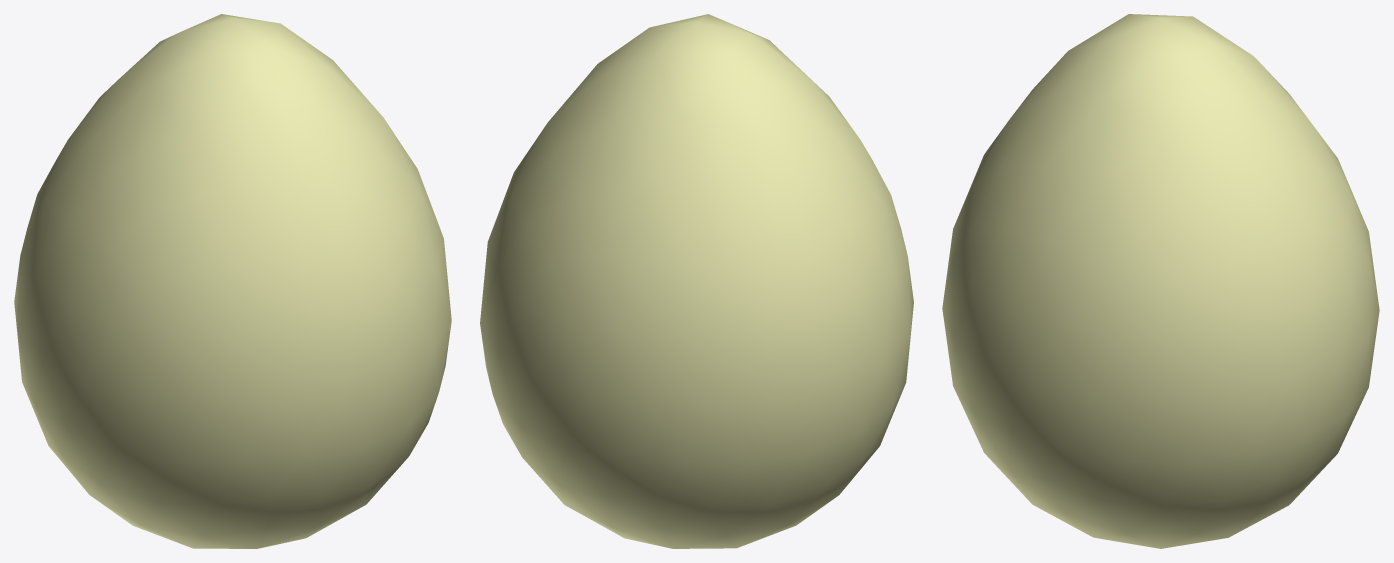
The model's file is egg.fbx.
3 renders of one model, left to right at view 1: azimuth 30°, elevation 25°; view 2: azimuth 150°, elevation 25°; view 3: azimuth 270°, elevation 25°, orthographic.
Parts seen in each view (by area): view 1: Icosphere; view 2: Icosphere; view 3: Icosphere.
Boxes of the visible parts, <box> form: Icosphere: <box>14,14,451,548</box>; Icosphere: <box>480,14,913,548</box>; Icosphere: <box>942,14,1379,548</box>.
Bounding box in the file's own units: 200 × 258 × 200.
